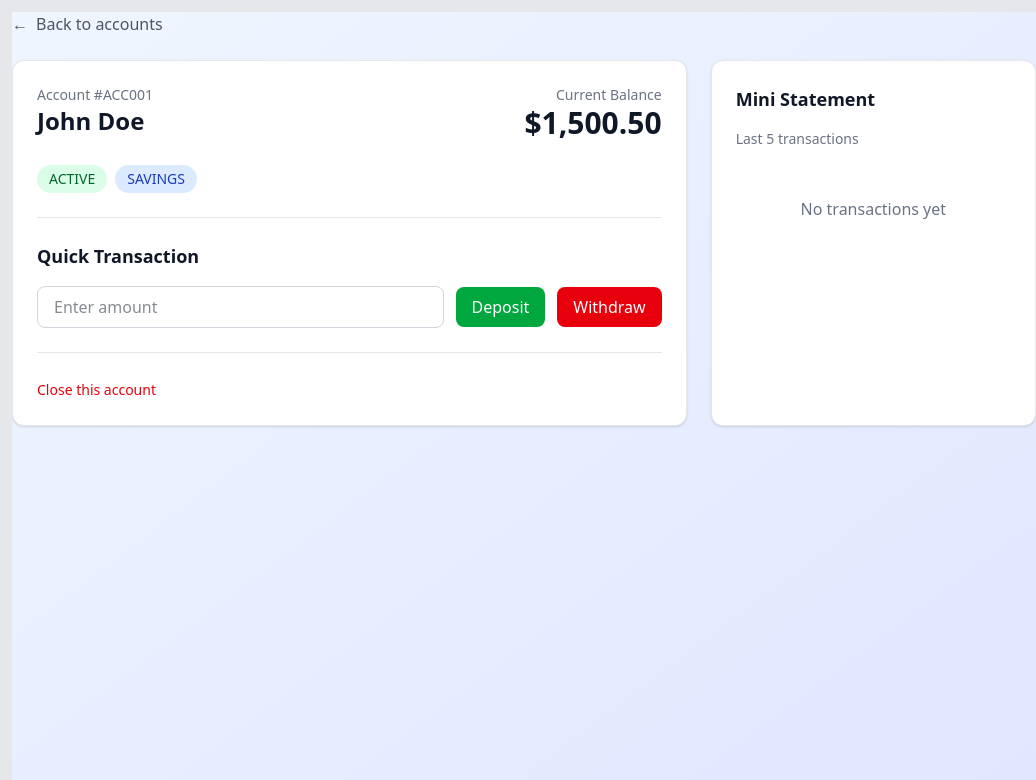
Test: AccountDetail › shows validation error for empty amount
Step 1. Click the button "Deposit" → (500, 307), box [456, 287, 545, 327]
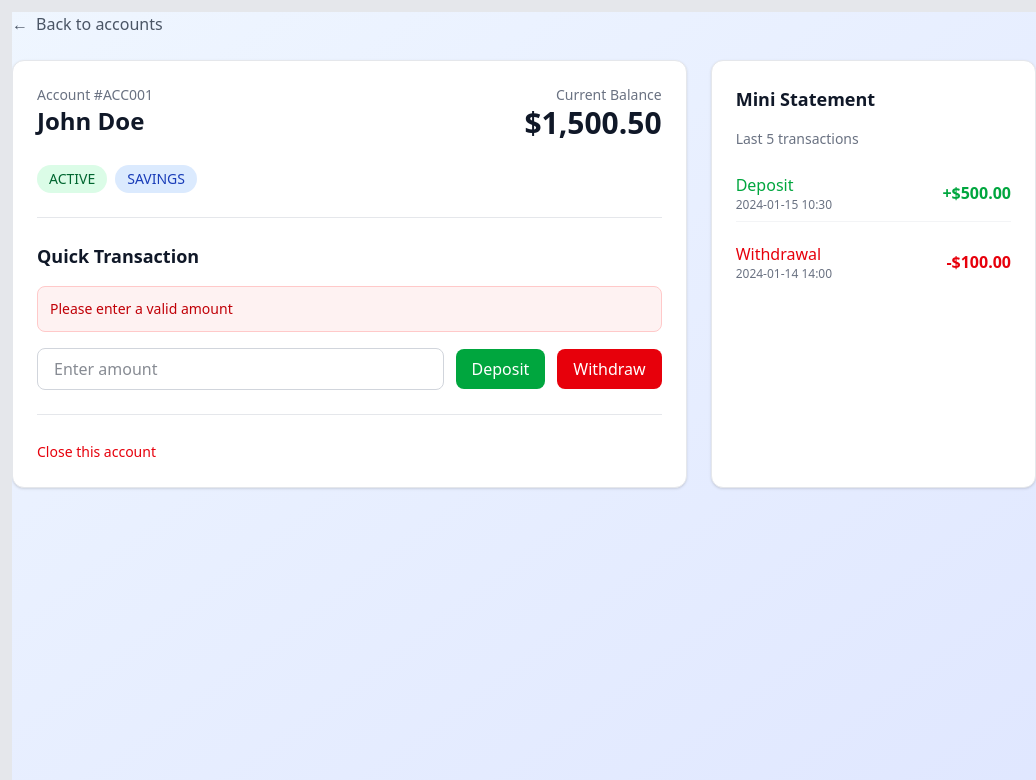
Expected: the text "Please enter a valid amount" is shown, [37, 286, 662, 332]
